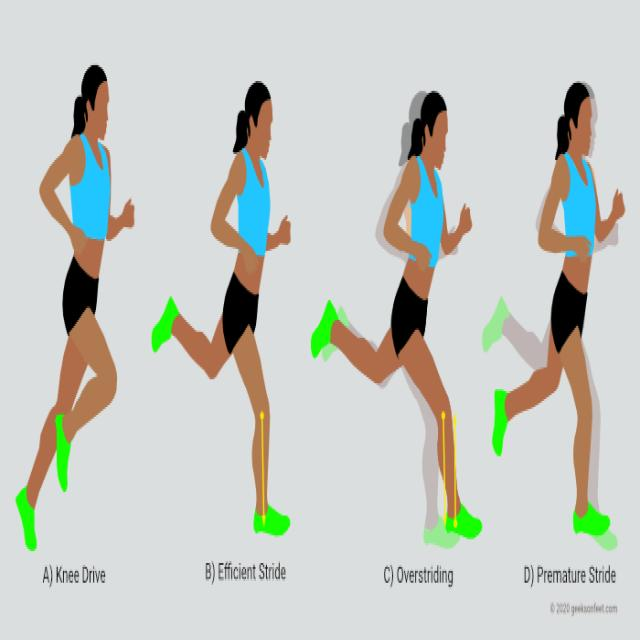Person: (311, 92, 484, 541), (151, 81, 290, 536), (491, 79, 625, 539), (14, 63, 134, 553)
